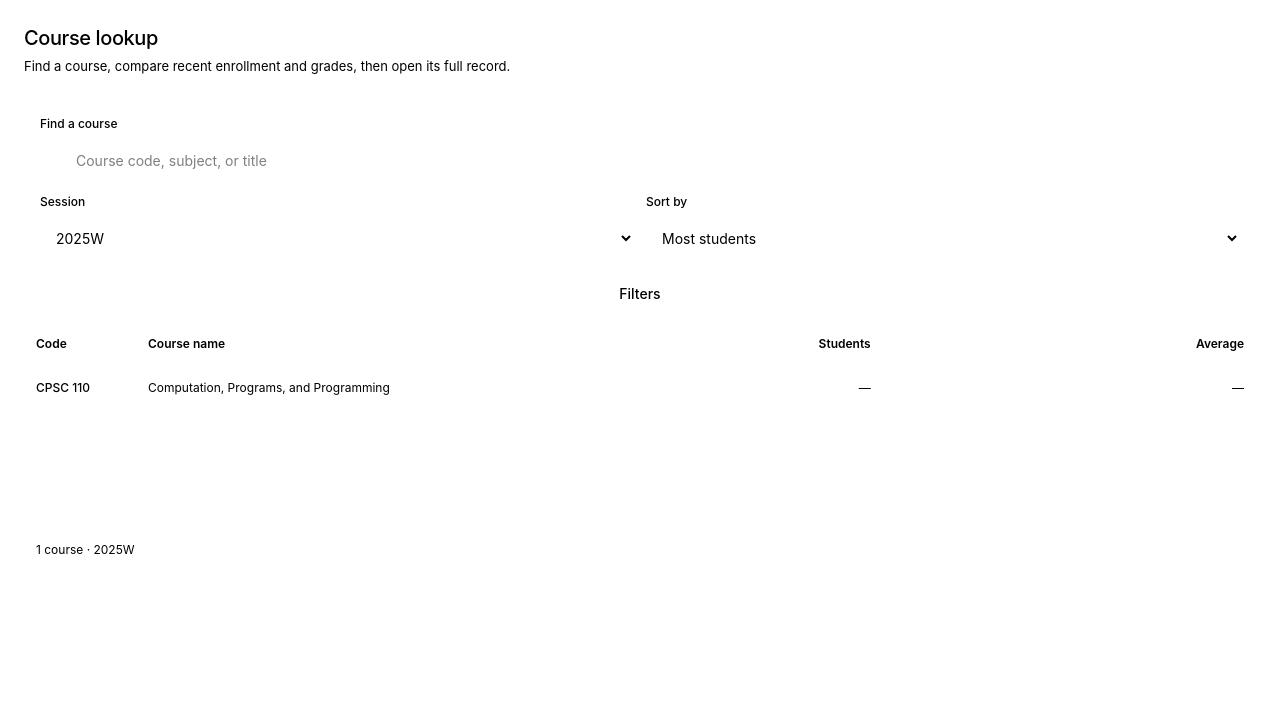
Test case: course loading consistency › keeps previous results after a failed refresh and retries without replacing them
The image size is (1280, 720).
expect the button "CPSC 110" is shown: met, box 30,366 -> 96,410
Select "Code (A–Z)" in the dropdown labelled "Sort by" at (943, 238), box 646,216 -> 1240,260
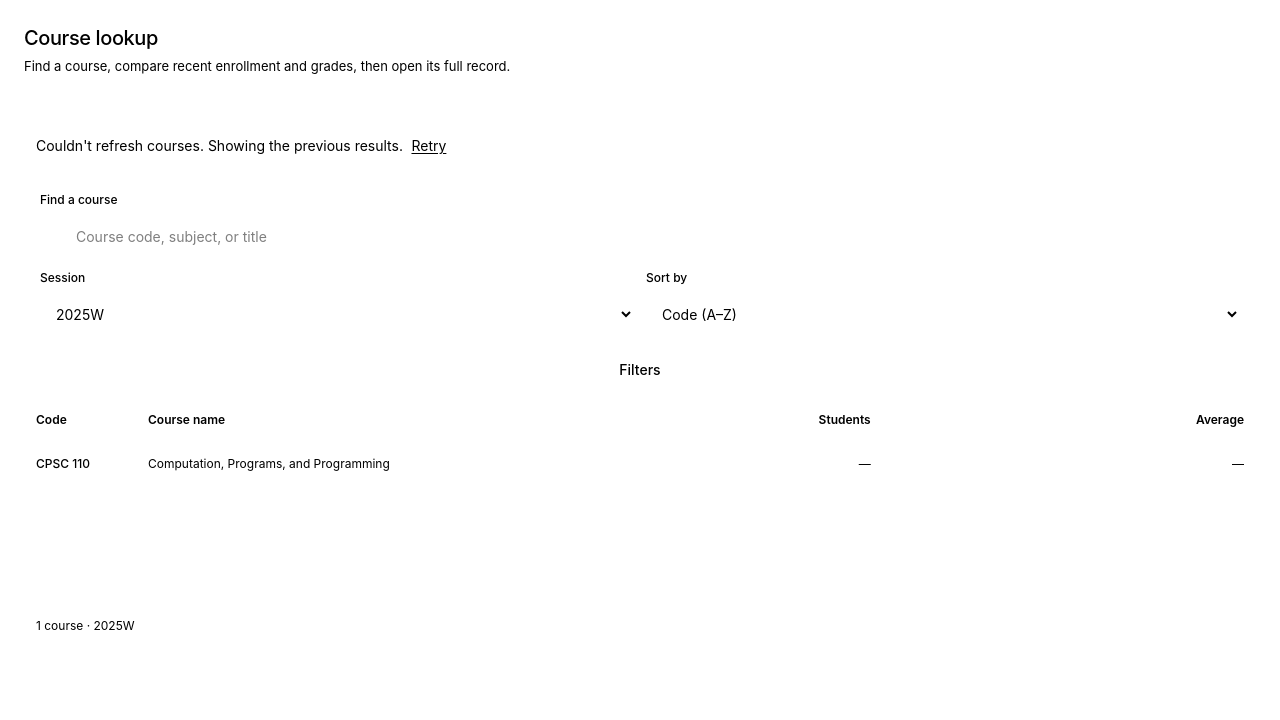
expect the button "CPSC 110" is shown: met, box 30,442 -> 96,486
expect the text "Couldn't refresh courses. Showing the previous results. Retry" is shown: met, box 36,124 -> 451,168
Click the button "Retry" at (429, 146), box 407,124 -> 451,168
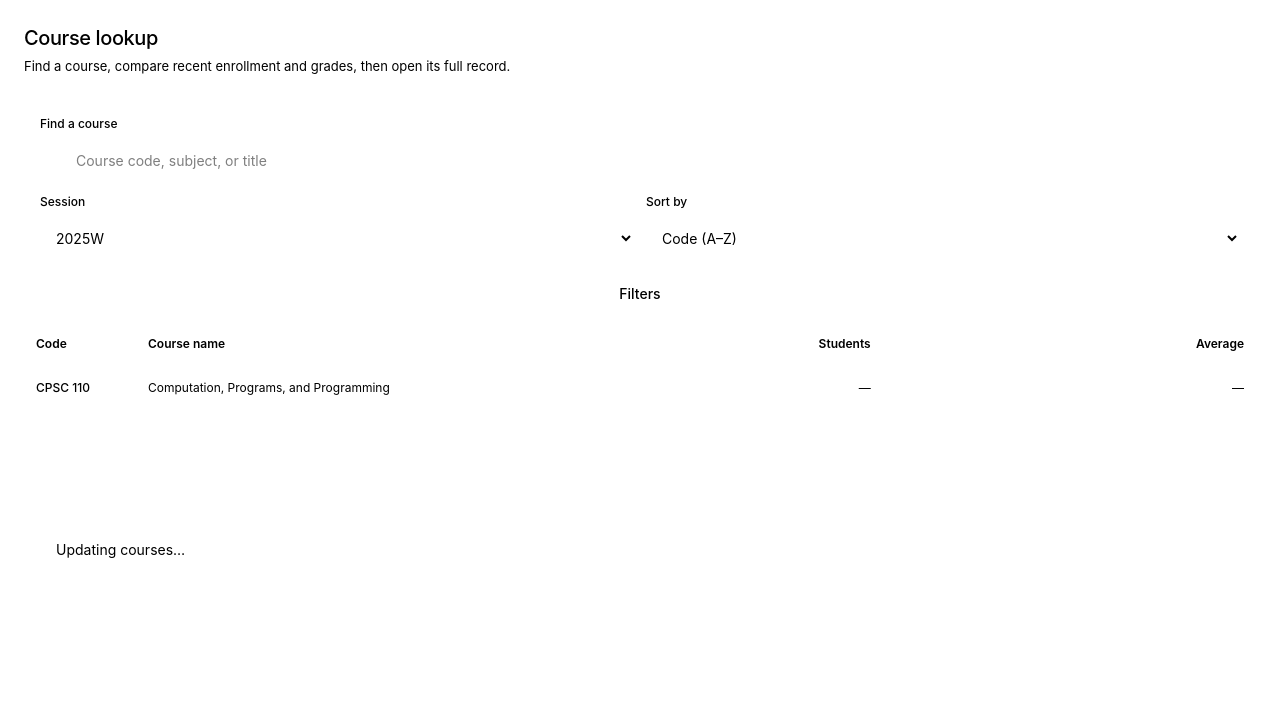
expect the text "Updating courses…" is shown: met, box 56,540 -> 185,560
